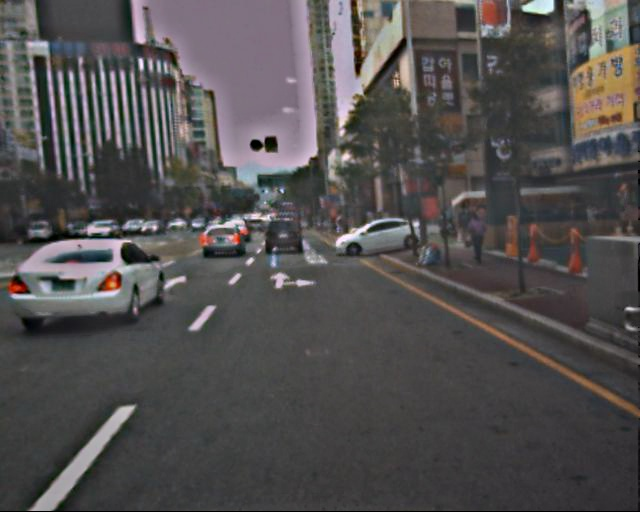person: (465, 210, 488, 267), (454, 199, 475, 249)
